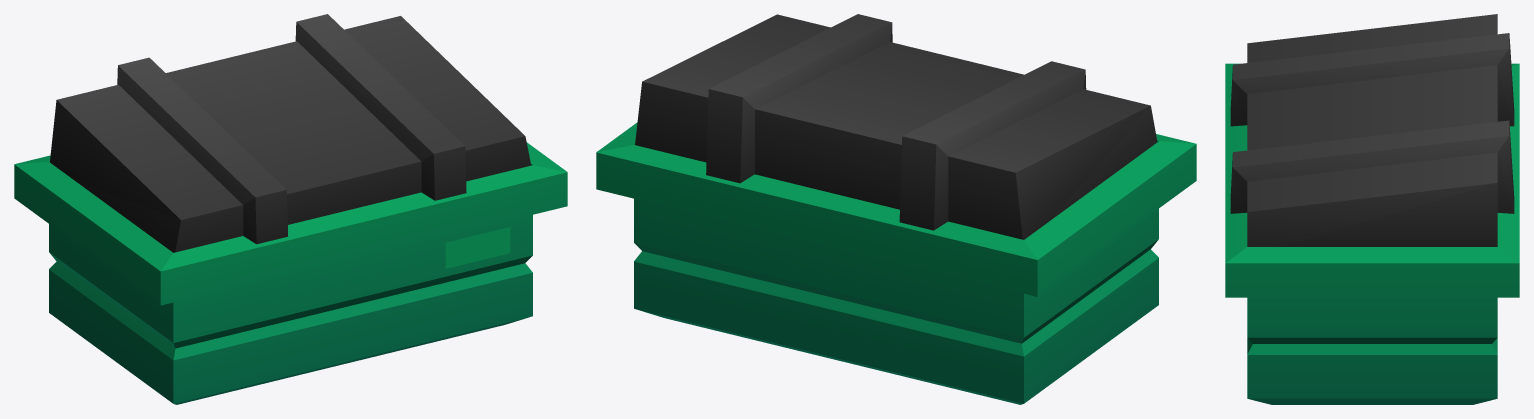
Rendered from dumpster.obj.
3 views of the same model, side by side, from view 1: azimuth 30°, elevation 25°; view 2: azimuth 150°, elevation 25°; view 3: azimuth 270°, elevation 25° (orthographic). The views are drawn at different scales.
Size of the model in its own units: 0.5659 by 0.3173 by 0.3528.
Materials: 1 (1 with a texture image).
